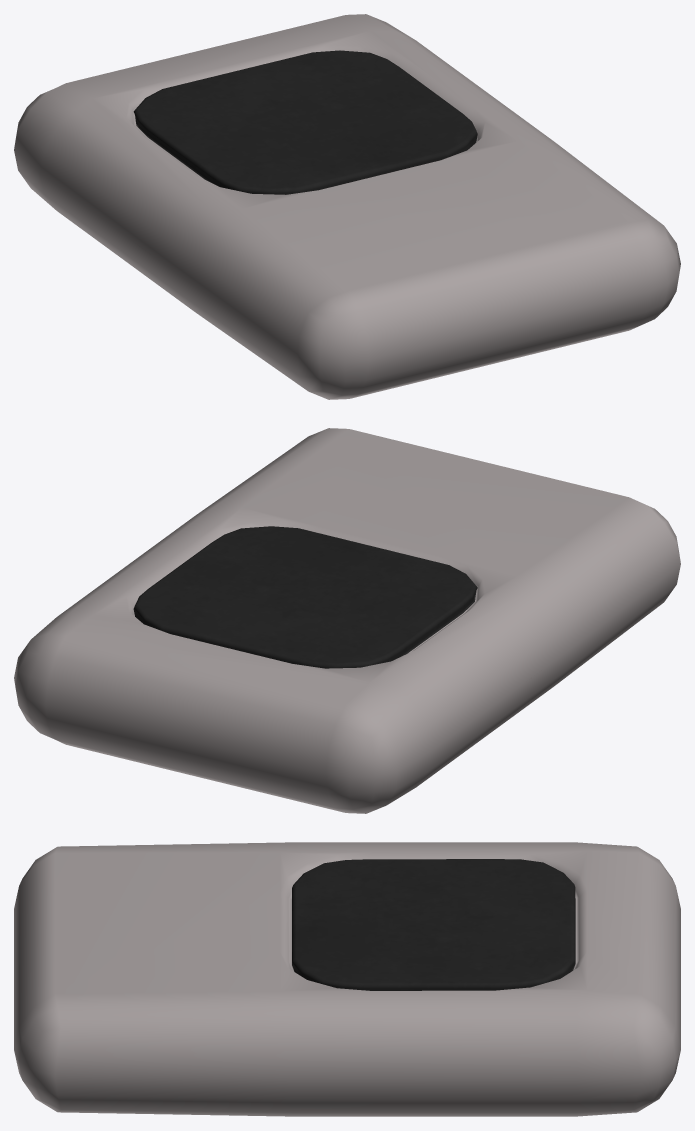
Rendered from Phone Finder.fbx.
The picture shows the model from 3 angles, top to bottom: view 1: azimuth 30°, elevation 25°; view 2: azimuth 150°, elevation 25°; view 3: azimuth 270°, elevation 25°; orthographic projection. The views are drawn at different scales.
Visible parts, largest first — view 1: Phone_Finder; view 2: Phone_Finder; view 3: Phone_Finder.
Part boxes in pixels (x1,y1,x2,y2): Phone_Finder: (14, 14, 680, 399); Phone_Finder: (14, 428, 680, 813); Phone_Finder: (14, 842, 680, 1116).
Bounding box in the file's own units: 3.5 × 0.9878 × 5.
